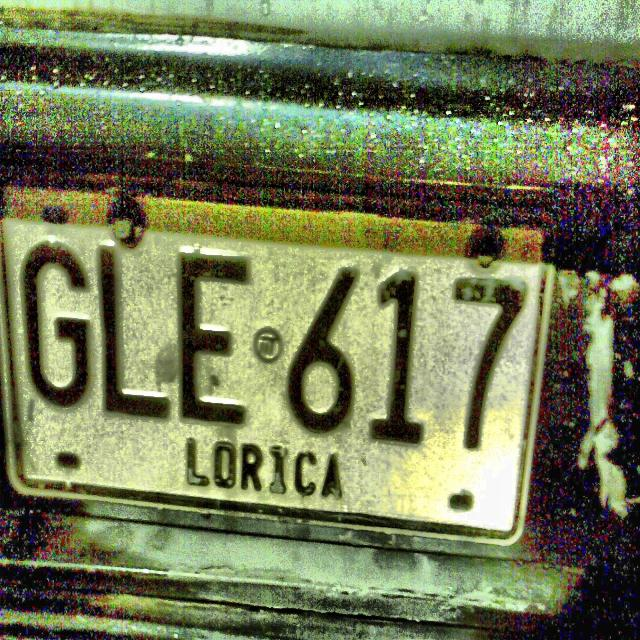plate: (1, 184, 549, 540)
